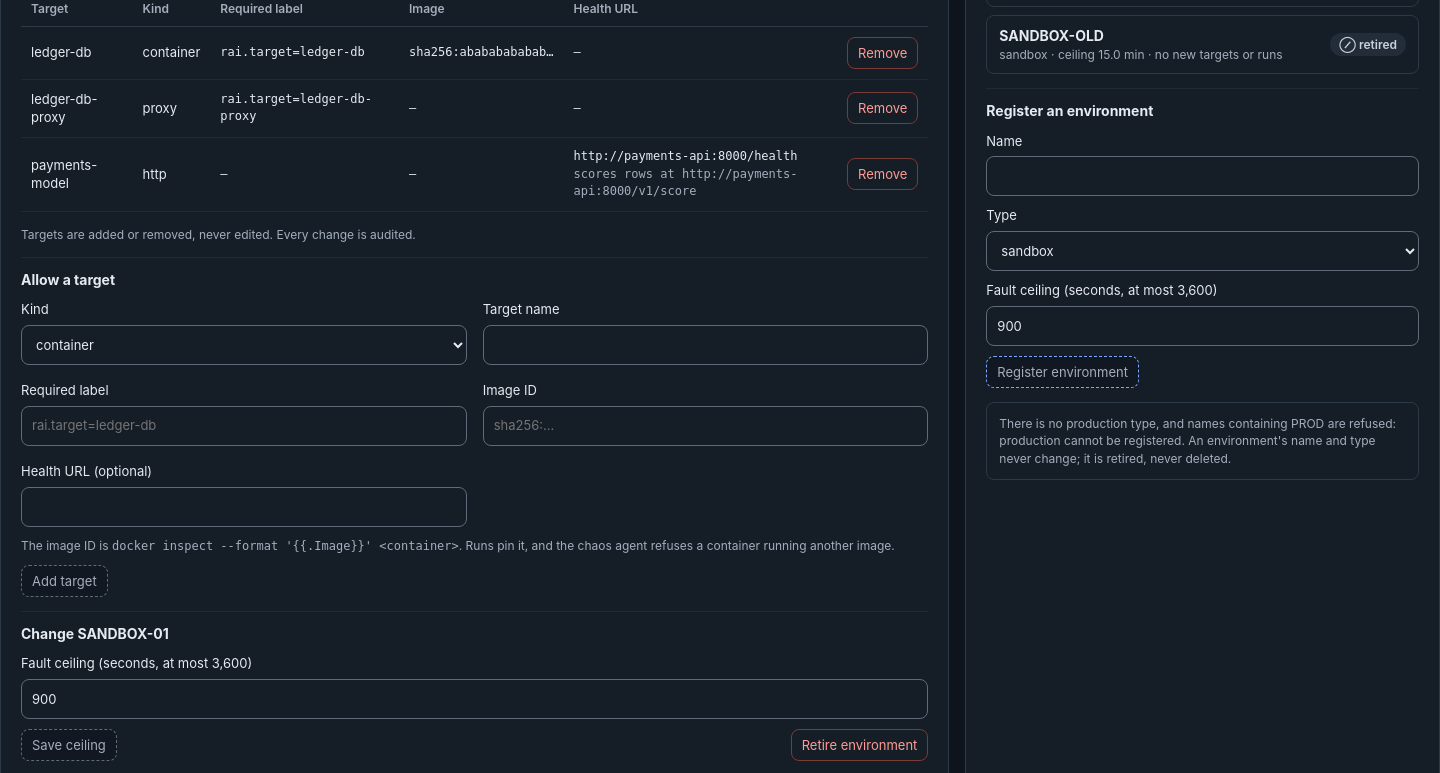
Test: Environments (FR-07.2, NFR-SAF-1) › shows why a change was refused
(page scrolled)
Click the button "Retire environment". click: (860, 745)
box: [791,729,928,761]
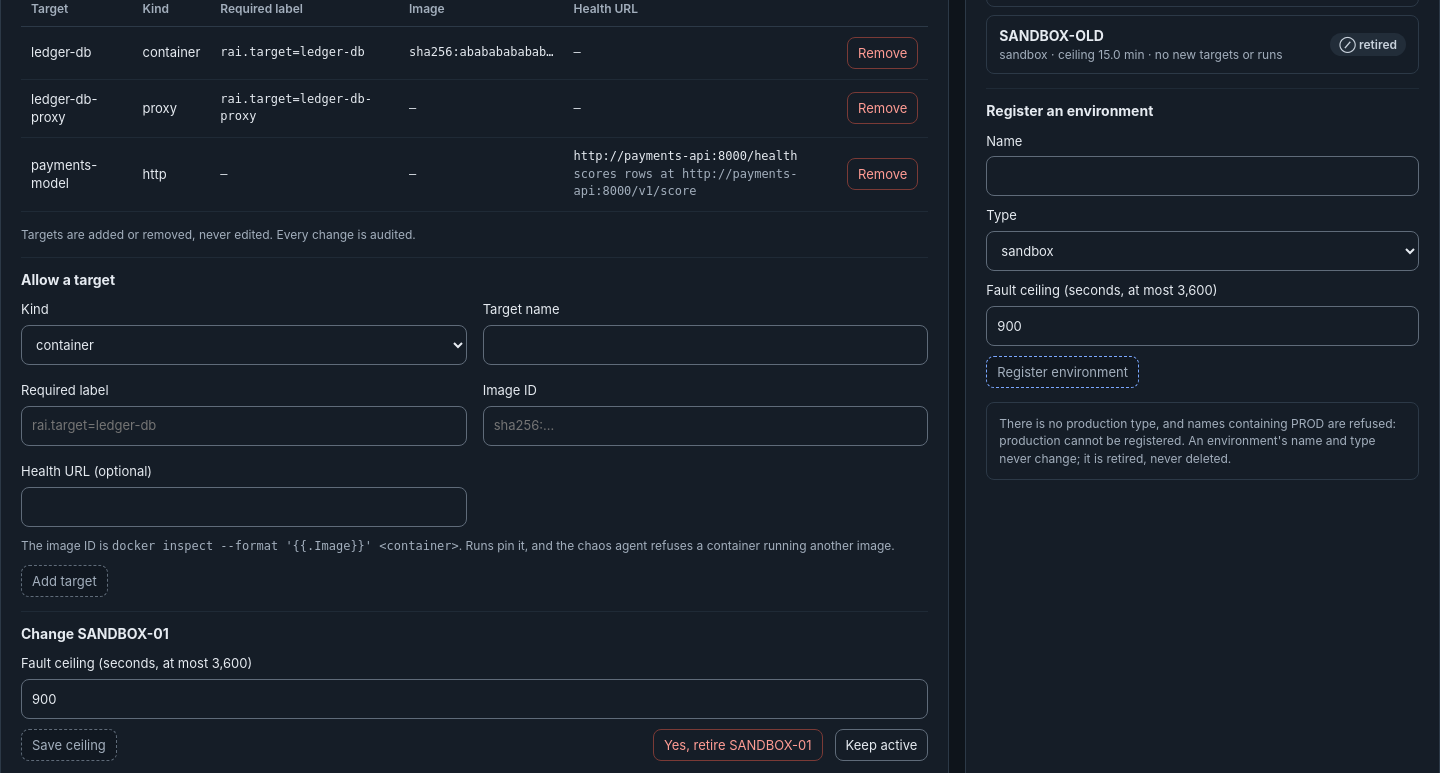
Click the button "Yes, retire SANDBOX-01". click: (738, 745)
box: [653,729,822,761]
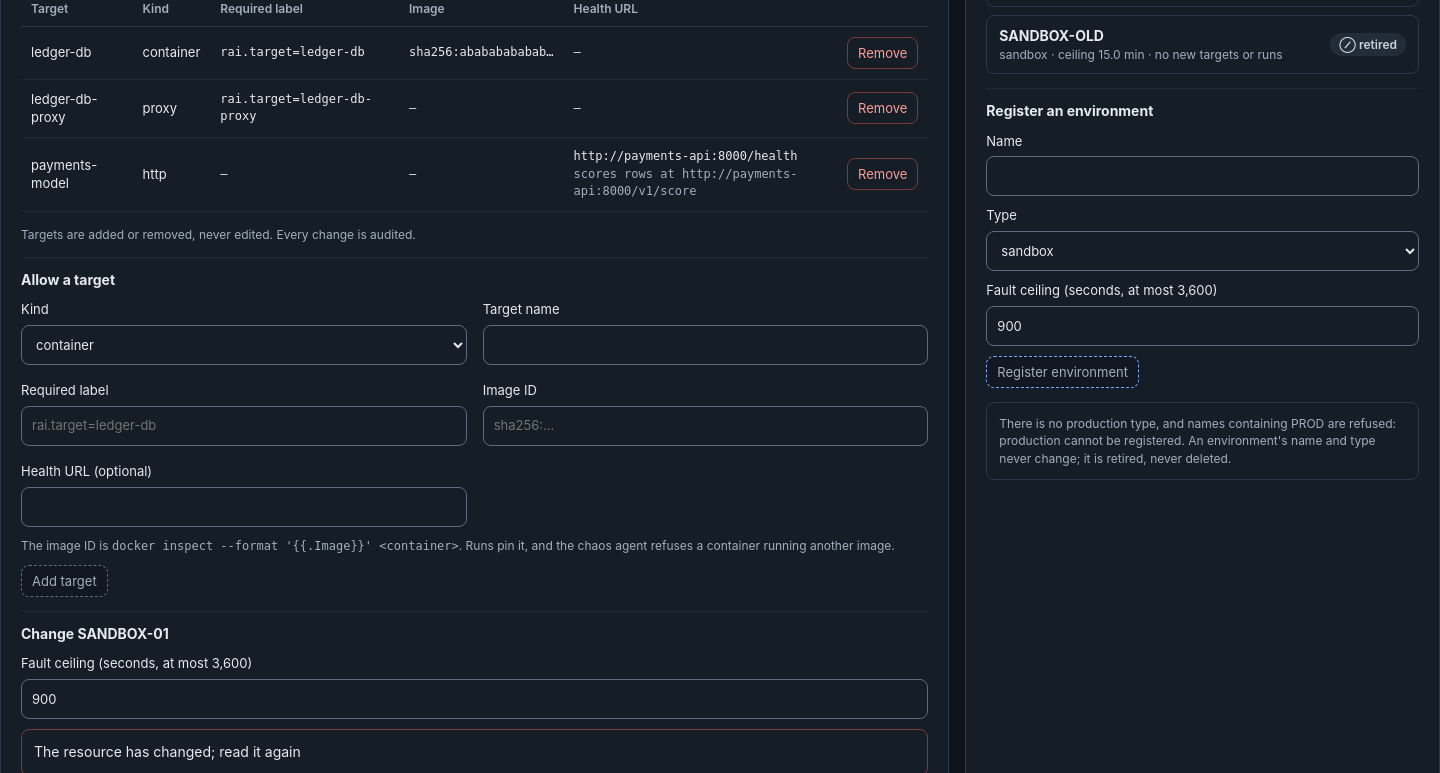
Expected: the message shows "The resource has changed", [34,743,301,760]
